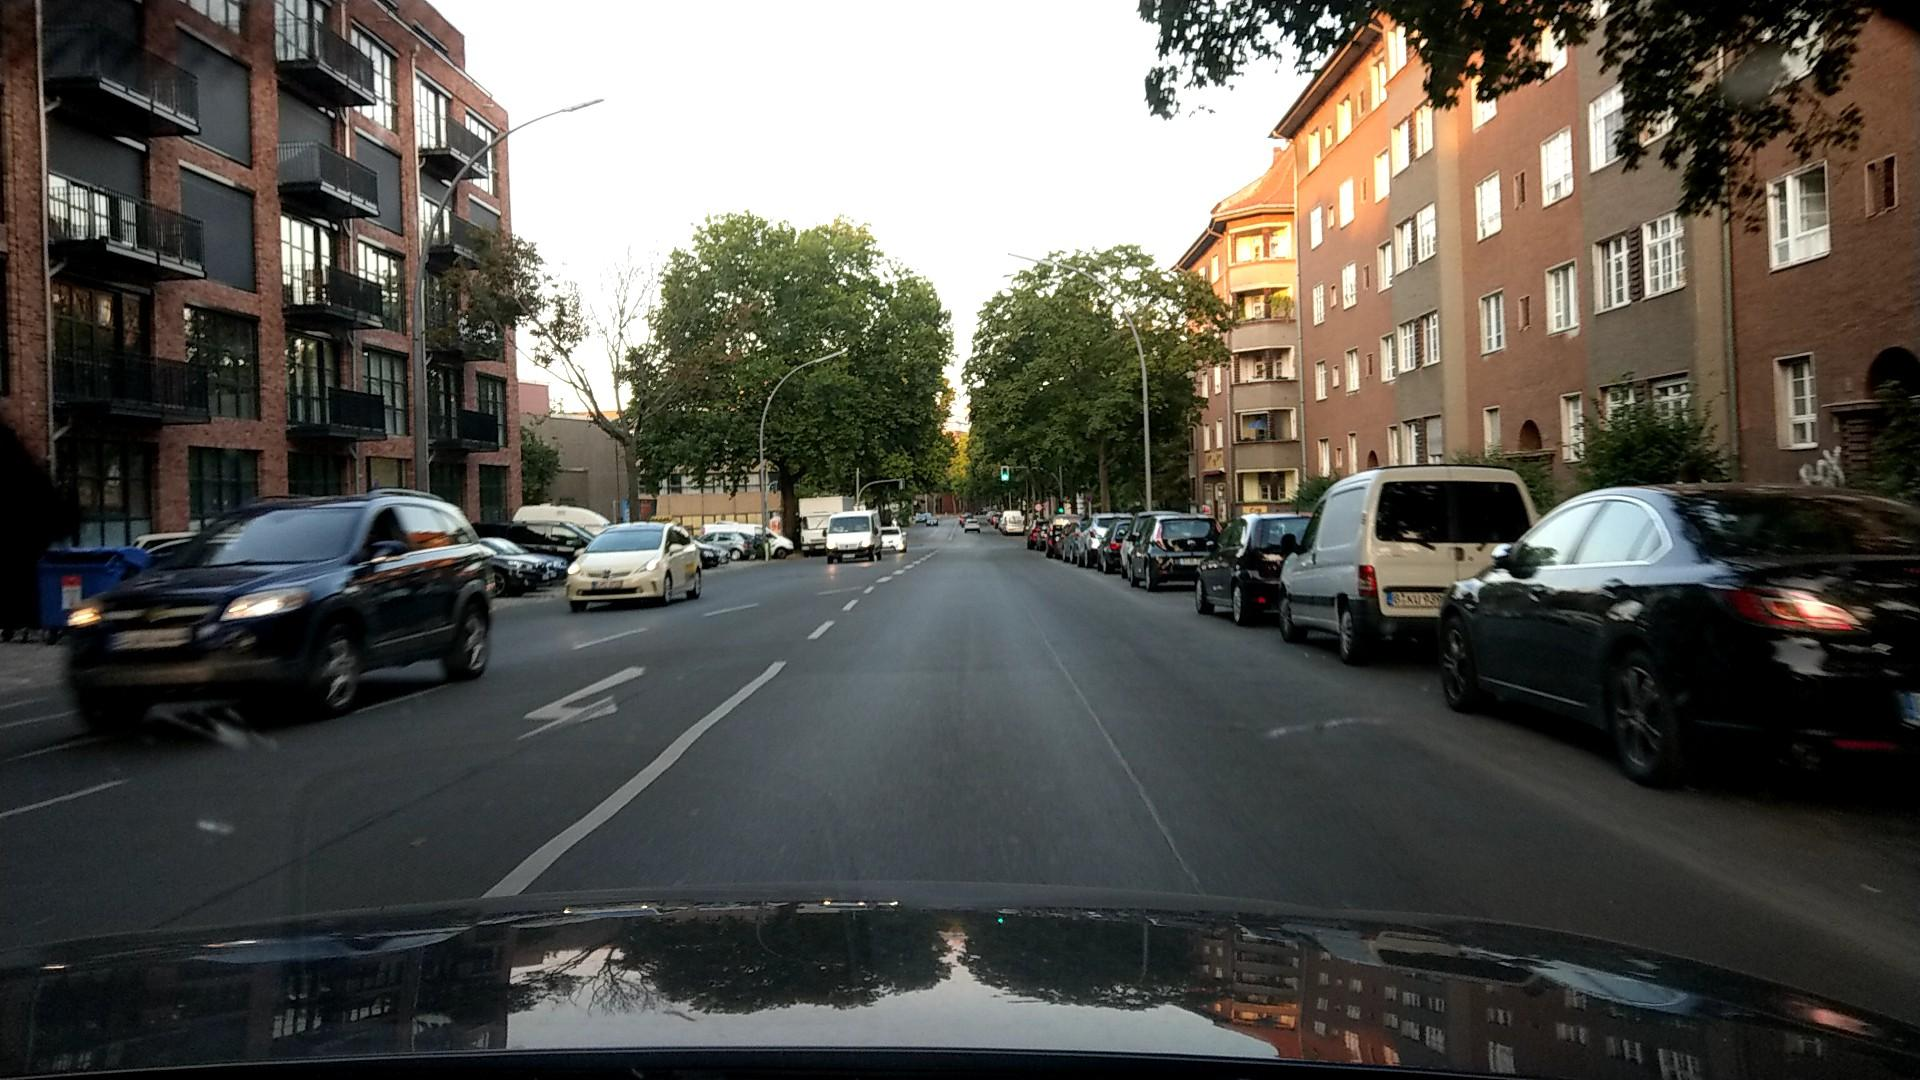Vehicle registration plate: (108, 628, 193, 650), (1387, 589, 1449, 608), (588, 580, 624, 590)
